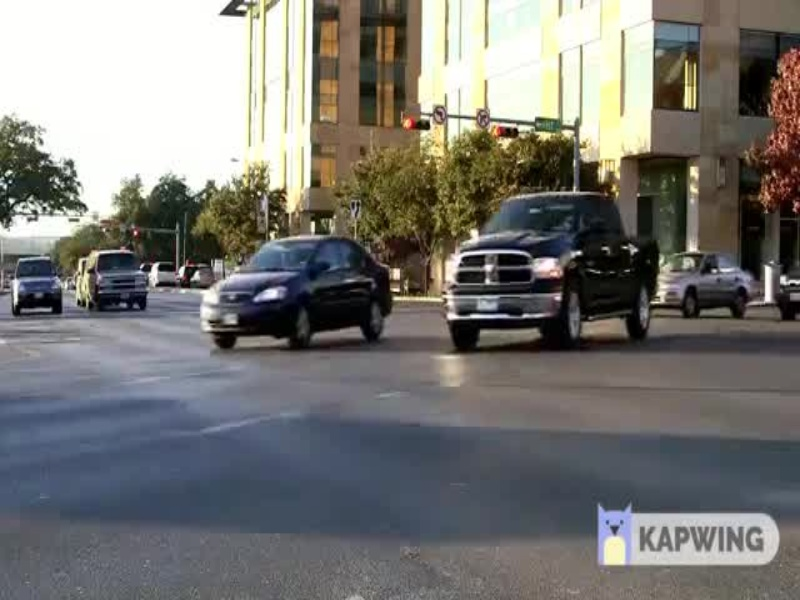car: (440, 187, 658, 362), (191, 230, 404, 360), (654, 248, 756, 321), (81, 242, 151, 318), (8, 250, 69, 317)
